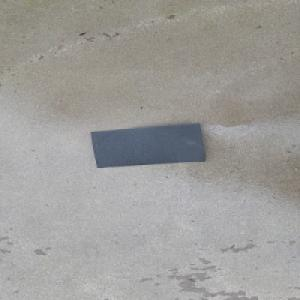PaintChip: (89, 122, 206, 168)
